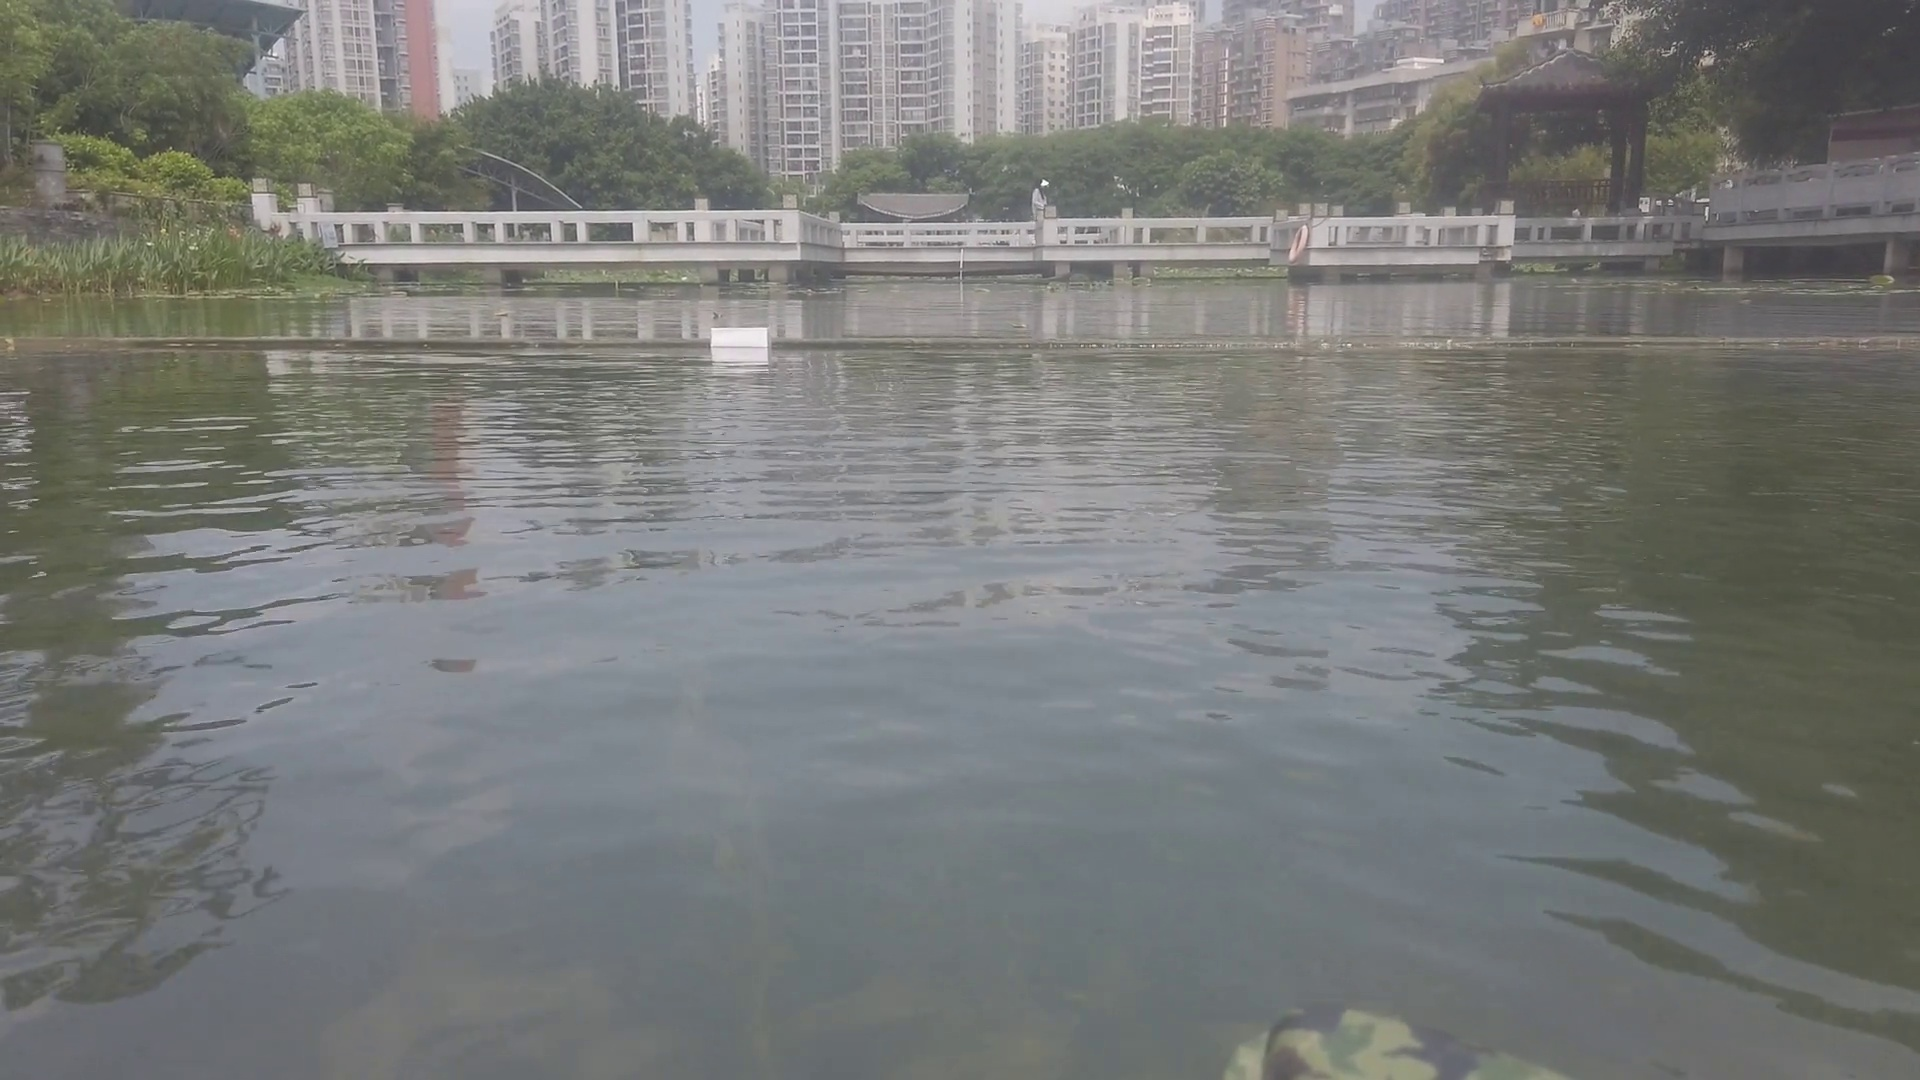carton: (705, 323, 774, 352)
